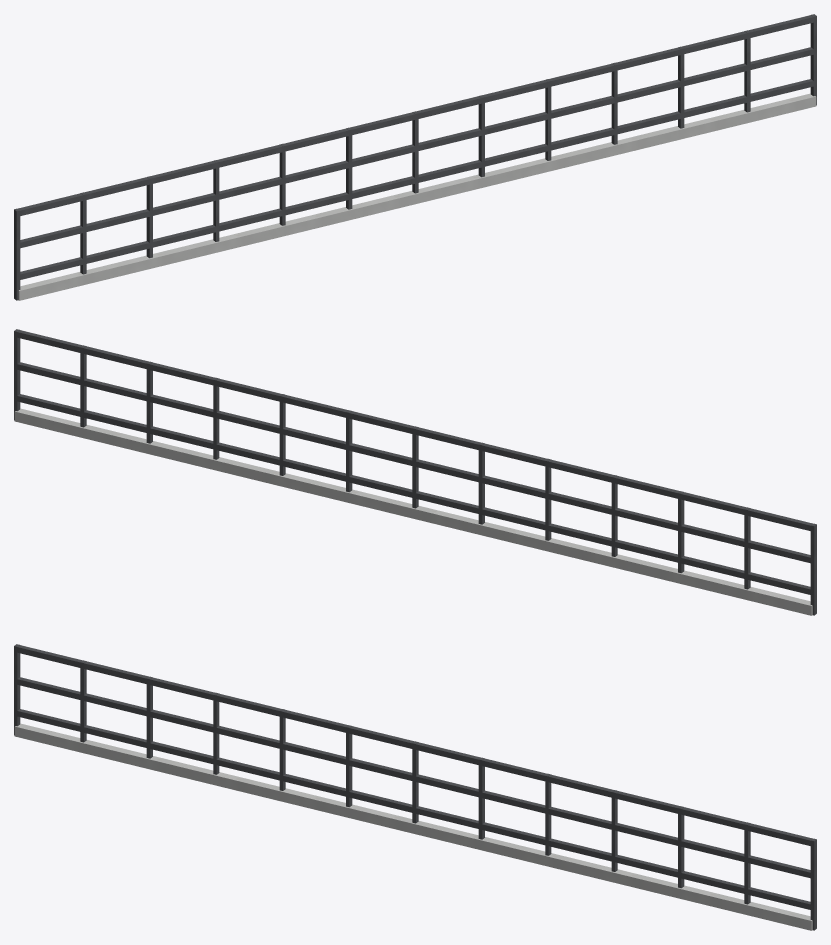
File: fence.gltf
The picture shows the model from 3 angles, top to bottom: view 1: azimuth 30°, elevation 25°; view 2: azimuth 150°, elevation 25°; view 3: azimuth 330°, elevation 25°; orthographic projection.
Visible parts, largest first — view 1: jx_fence; view 2: jx_fence; view 3: jx_fence.
Boxes of the visible parts, x1,y1,x2,y2 form: jx_fence: (14,14,816,300); jx_fence: (14,329,816,615); jx_fence: (14,644,816,930).
Size of the model in its own units: 12.65 by 1.35 by 0.125.
Materials: 2 (2 with a texture image).
